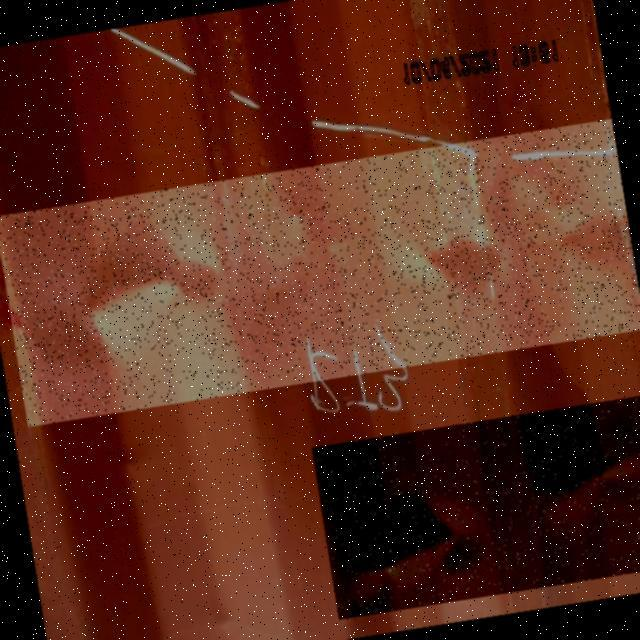Dent: (0, 119, 640, 427), (311, 391, 640, 619)
